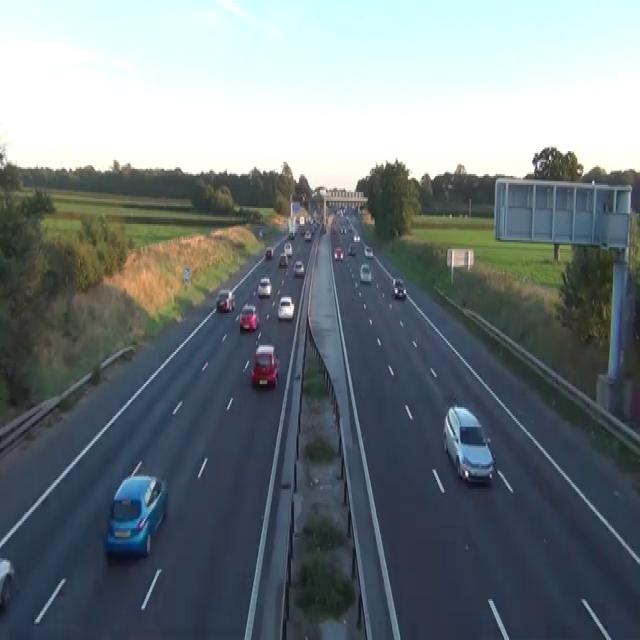Car: (103, 473, 168, 558), (442, 404, 496, 484), (250, 345, 279, 387), (0, 556, 15, 612), (239, 304, 259, 331), (215, 288, 235, 311), (277, 295, 294, 320), (391, 277, 406, 299), (257, 277, 271, 297), (359, 263, 371, 283), (293, 260, 304, 276), (333, 246, 343, 262), (278, 250, 287, 266), (283, 242, 292, 256), (364, 245, 373, 258), (265, 247, 273, 260), (348, 244, 356, 254), (304, 229, 311, 240), (320, 222, 326, 233), (300, 192, 306, 203), (353, 233, 360, 242), (299, 224, 304, 235), (337, 208, 343, 217), (288, 230, 294, 238), (340, 226, 346, 234), (331, 224, 336, 233), (348, 222, 353, 231), (259, 228, 262, 236)
